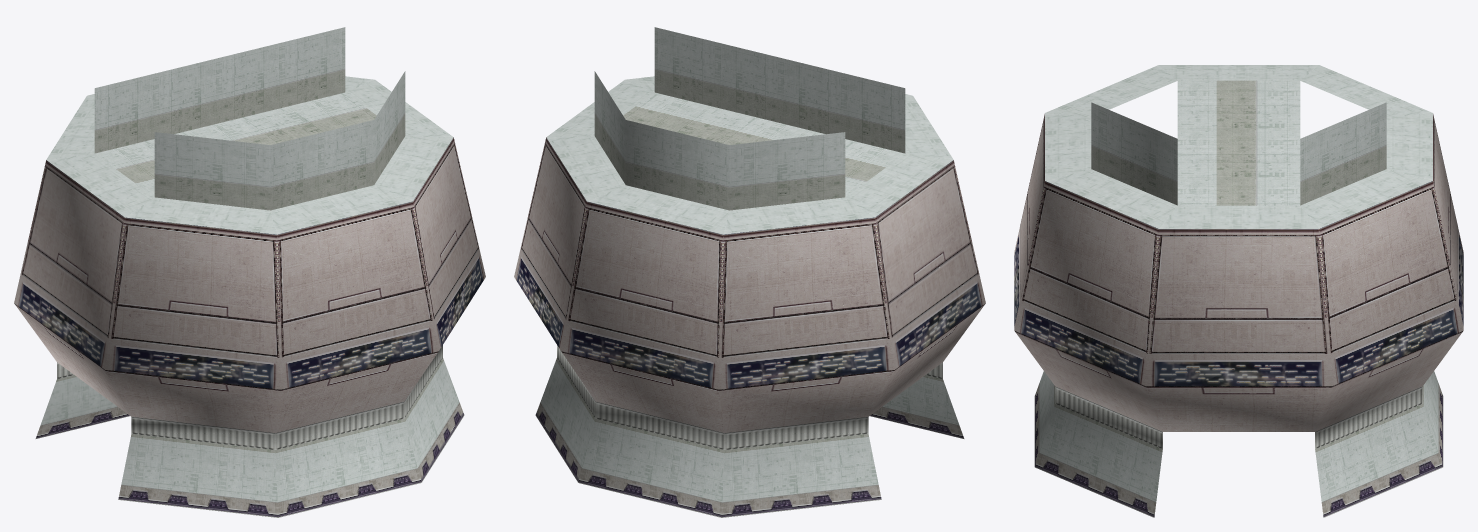
File: bes2_bldg_a_bot2.glb
3 renders of one model, left to right at view 1: azimuth 30°, elevation 25°; view 2: azimuth 150°, elevation 25°; view 3: azimuth 270°, elevation 25°, orthographic. The views are drawn at different scales.
Parts seen in each view (by area): view 1: mesh_part1, mesh_part4, mesh_part2, mesh_part3; view 2: mesh_part1, mesh_part4, mesh_part2, mesh_part3; view 3: mesh_part1, mesh_part4, mesh_part2, mesh_part3.
Boxes of the visible parts, x1=… form: mesh_part1: x1=14, y1=137, x2=485, y2=432; mesh_part4: x1=40, y1=27, x2=459, y2=502; mesh_part2: x1=35, y1=403, x2=464, y2=517; mesh_part3: x1=57, y1=345, x2=442, y2=449; mesh_part1: x1=514, y1=137, x2=985, y2=432; mesh_part4: x1=540, y1=27, x2=959, y2=502; mesh_part2: x1=535, y1=403, x2=964, y2=517; mesh_part3: x1=557, y1=345, x2=942, y2=449; mesh_part1: x1=1014, y1=114, x2=1463, y2=431; mesh_part4: x1=1039, y1=65, x2=1438, y2=502; mesh_part2: x1=1034, y1=384, x2=1443, y2=517; mesh_part3: x1=1055, y1=386, x2=1422, y2=448.
Bounding box in the file's own units: 24.39 × 21.28 × 24.39.
4 materials, 4 textured.
